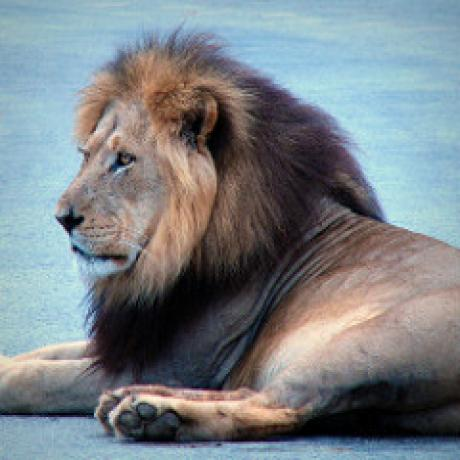Lion: (0, 41, 460, 441)
